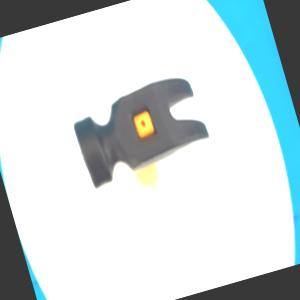martelo: (67, 70, 220, 208)
